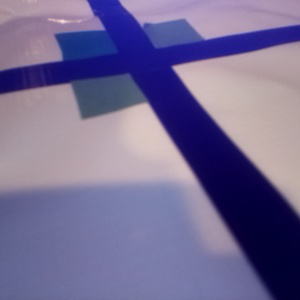bottom_left: (71, 61, 171, 119)
top_left: (54, 29, 144, 71)
top_right: (119, 18, 206, 58)
